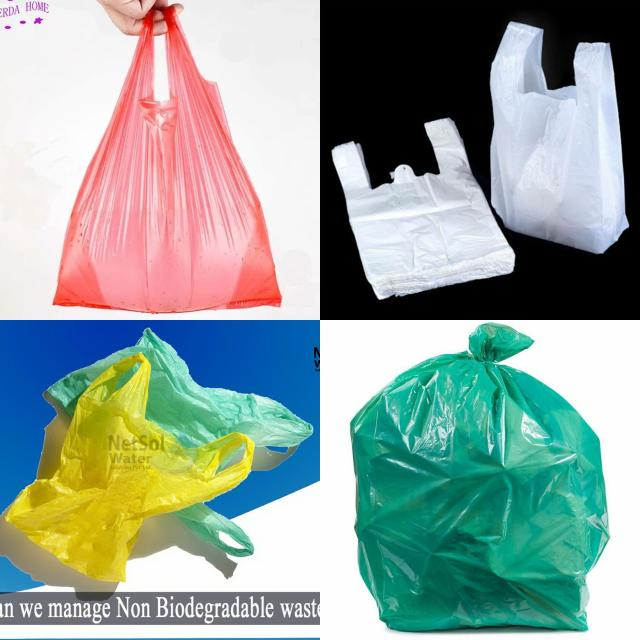Single-layer Plastic: (351, 325, 609, 631), (54, 8, 281, 312), (6, 354, 255, 582), (332, 119, 515, 299), (490, 22, 628, 252), (49, 329, 311, 448), (174, 502, 254, 556)
